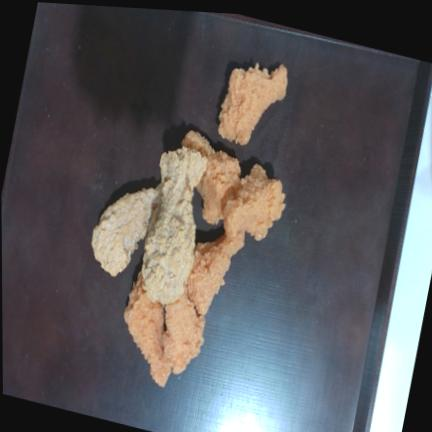chicken: (142, 149, 196, 304), (92, 184, 161, 276), (219, 63, 288, 145), (124, 272, 171, 386), (183, 132, 241, 224), (187, 232, 244, 315), (224, 164, 285, 240), (164, 290, 205, 374)
